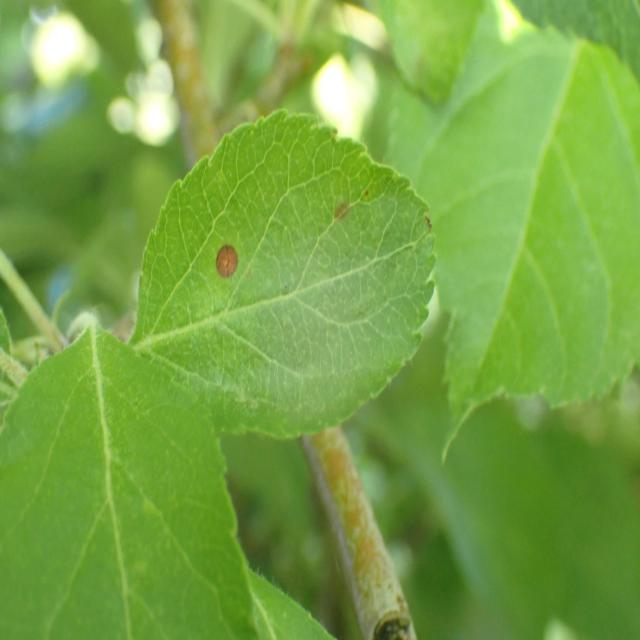Black Rot: (210, 232, 247, 296), (327, 185, 373, 228)
